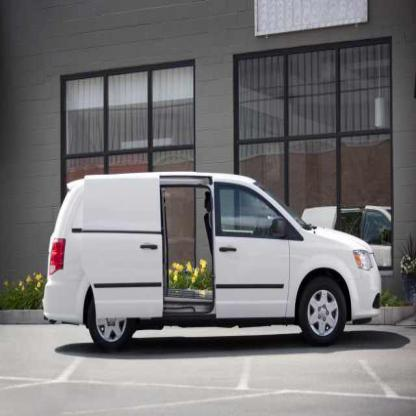Vehicle: (43, 172, 382, 353)
